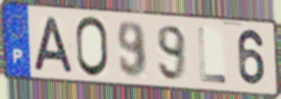6: (237, 29, 268, 88)
9: (116, 19, 149, 80), (155, 23, 188, 82)
A: (31, 15, 76, 75)
L: (196, 25, 228, 85)
O: (74, 15, 111, 80)
